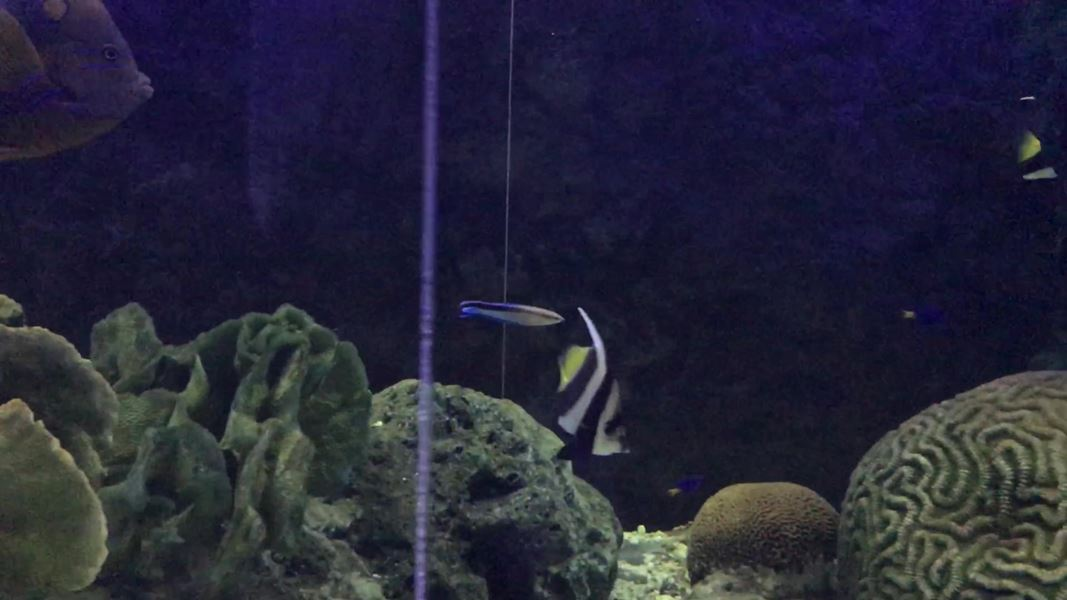Bluesteak cleaner wrasse: (450, 293, 571, 333)
